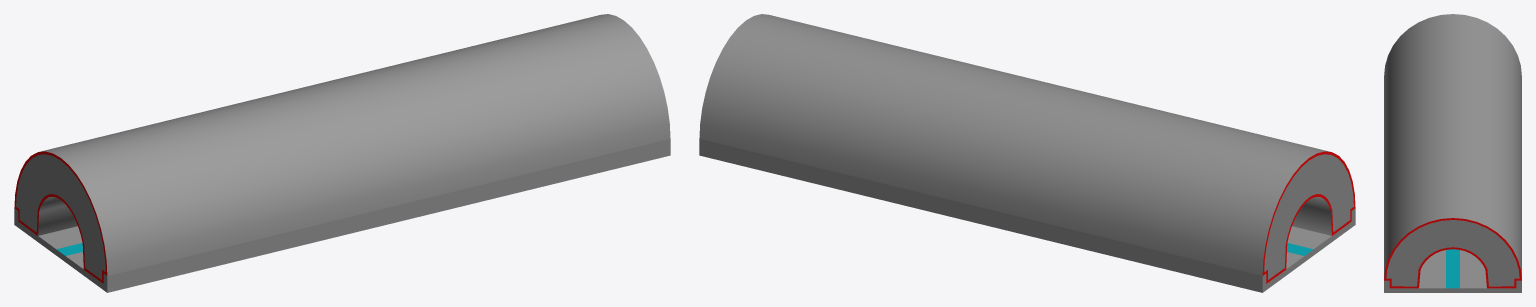
Rendered from mesh_road_tunnel.FBX.
3 renders of one model, left to right at view 1: azimuth 30°, elevation 25°; view 2: azimuth 150°, elevation 25°; view 3: azimuth 270°, elevation 25°, orthographic. The views are drawn at different scales.
Visible parts, largest first — view 1: Box001; view 2: Box001; view 3: Box001.
Part boxes in pixels (x1=…): Box001: x1=14, y1=14, x2=670, y2=292; Box001: x1=699, y1=14, x2=1355, y2=292; Box001: x1=1384, y1=14, x2=1521, y2=292.
Size of the model in its own units: 140 by 24 by 40.
